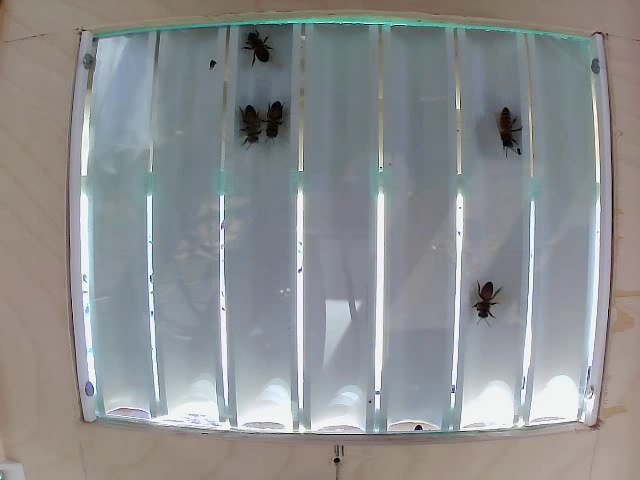bee: (491, 101, 529, 161), (244, 21, 276, 67), (474, 268, 498, 321), (235, 105, 262, 150), (265, 95, 289, 145)
